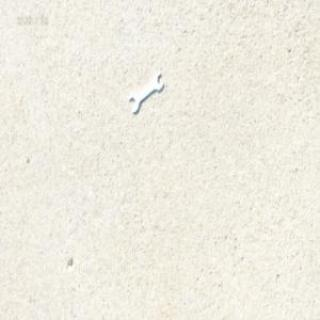Wrenchtrack_idkeyframe: (128, 71, 164, 113)
